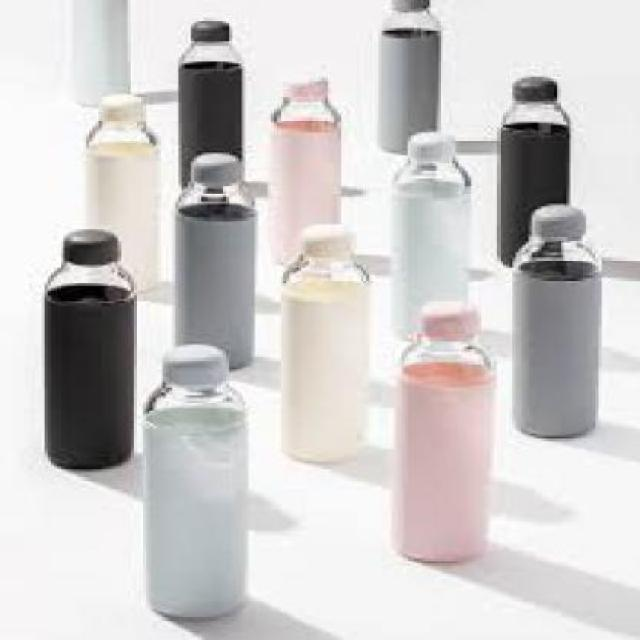Drinking: (128, 338, 264, 628), (382, 290, 506, 572), (152, 140, 271, 372), (510, 191, 615, 446)
